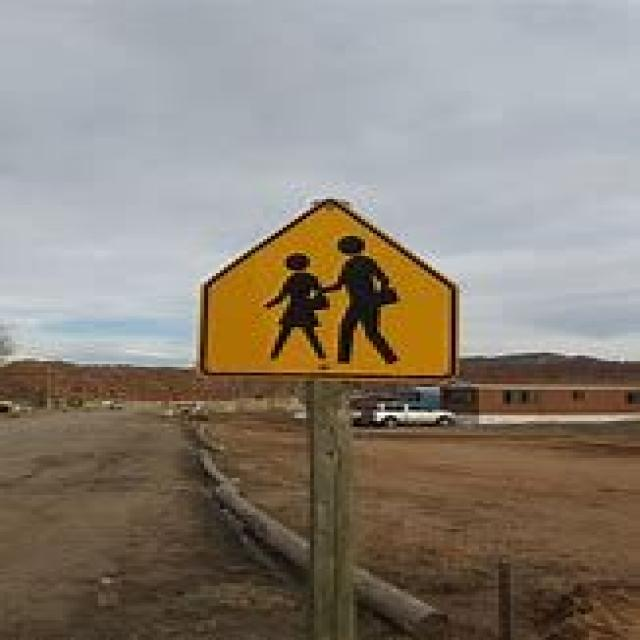SCHOOL_AHEAD: (192, 196, 456, 378)
